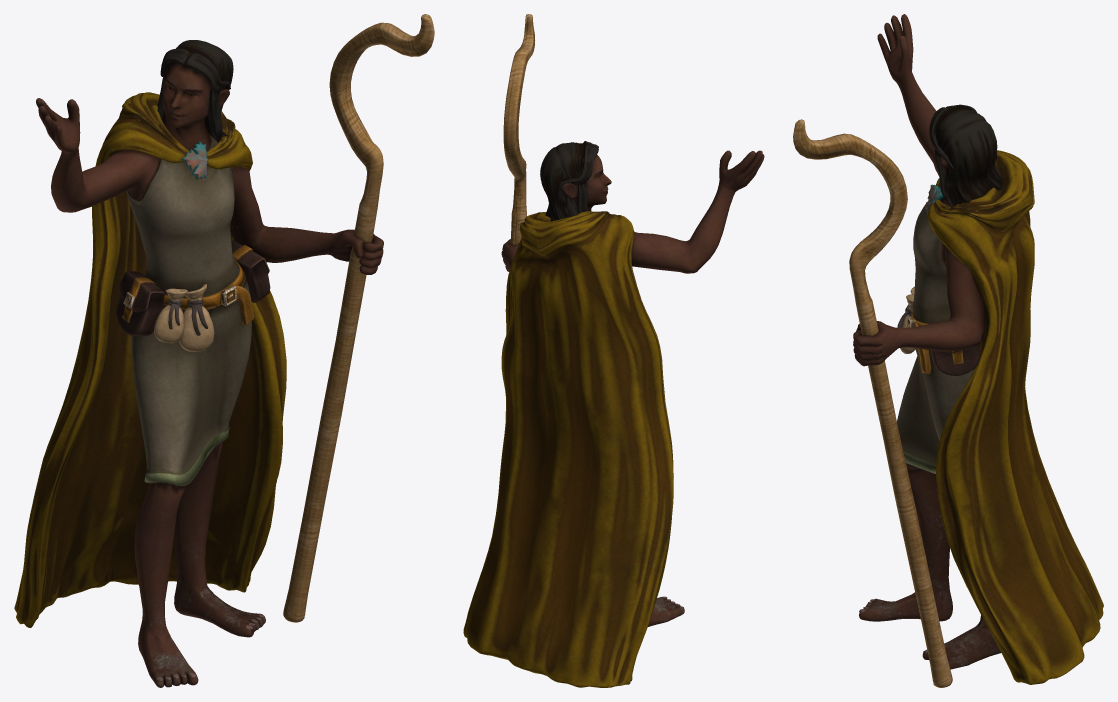
Rendered from MZ4250 - Druid Female_B.glb.
3 views of the same model, side by side, from view 1: azimuth 30°, elevation 25°; view 2: azimuth 150°, elevation 25°; view 3: azimuth 270°, elevation 25° (orthographic). The views are drawn at different scales.
Parts seen in each view (by area): view 1: Cube.001; view 2: Cube.001; view 3: Cube.001.
Part boxes in pixels (x1,y1,x2,y2): Cube.001: (14, 14, 434, 687); Cube.001: (463, 14, 764, 687); Cube.001: (793, 14, 1103, 687).
Size of the model in its own units: 0.5405 by 0.9843 by 0.4701.
1 material, 1 textured.
